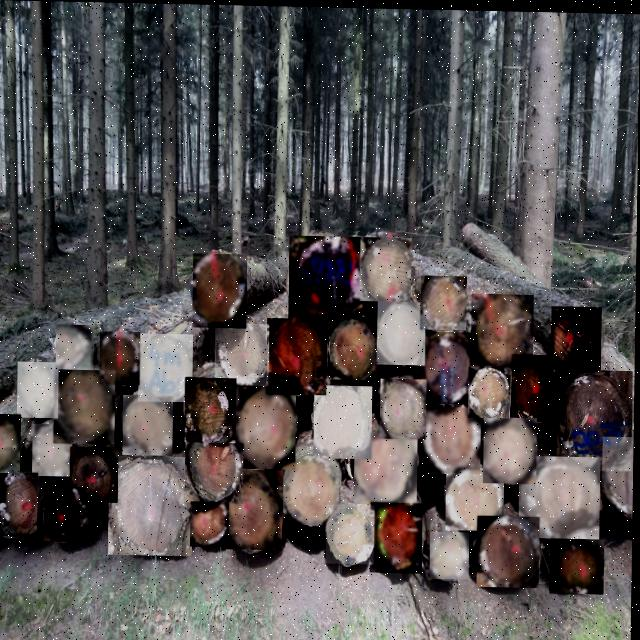wood-log: (110, 455, 195, 555), (558, 367, 634, 468), (520, 453, 602, 537), (289, 235, 364, 320), (237, 385, 298, 468), (225, 469, 285, 550), (472, 291, 535, 366), (355, 431, 419, 504), (55, 370, 117, 445), (268, 317, 328, 394), (478, 513, 541, 586), (417, 329, 479, 403), (315, 384, 374, 458), (282, 454, 341, 524), (193, 252, 248, 327), (422, 405, 482, 472), (139, 332, 194, 402), (512, 352, 567, 420), (371, 501, 424, 571), (447, 467, 506, 529), (186, 442, 245, 503), (485, 415, 538, 481), (186, 376, 238, 442), (216, 322, 270, 385), (361, 235, 412, 300), (552, 304, 603, 368), (378, 300, 427, 364), (551, 536, 606, 592), (331, 315, 379, 379), (124, 394, 174, 455), (327, 503, 376, 563), (381, 377, 428, 438), (71, 446, 120, 502), (421, 273, 468, 328), (0, 472, 39, 537), (603, 434, 635, 513), (18, 361, 60, 418), (46, 486, 87, 542), (470, 364, 512, 416), (101, 331, 141, 385), (33, 424, 74, 476), (431, 530, 471, 577), (57, 324, 96, 370), (192, 500, 230, 546), (0, 414, 22, 473)
